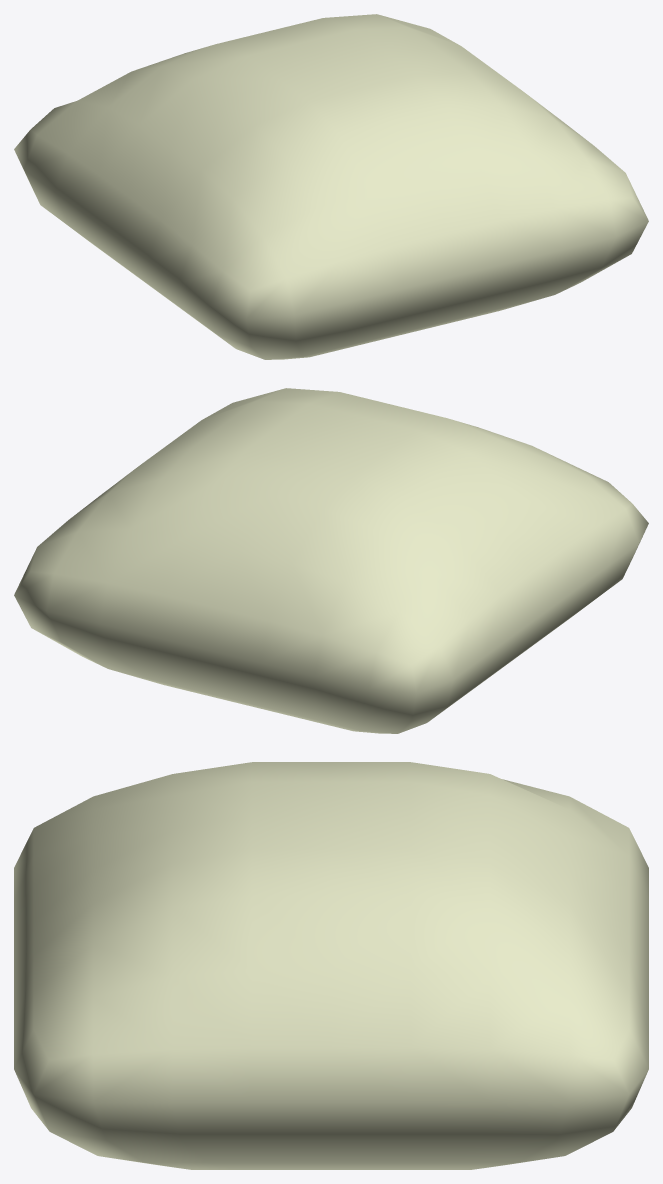
The model's file is Foo-Foo.fbx.
3 renders of one model, top to bottom at view 1: azimuth 30°, elevation 25°; view 2: azimuth 150°, elevation 25°; view 3: azimuth 270°, elevation 25°, orthographic. The views are drawn at different scales.
Visible parts, largest first — view 1: pCube16; view 2: pCube16; view 3: pCube16.
Part boxes in pixels (<box>): pCube16: <box>14,14,648,359</box>; pCube16: <box>14,388,648,733</box>; pCube16: <box>14,762,648,1169</box>.
Size of the model in its own units: 1 by 0.4972 by 1.
